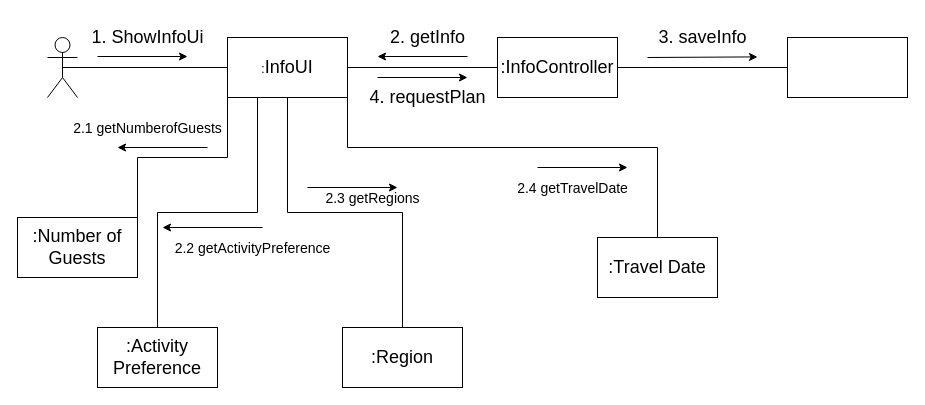
Some shapes in this 925 by 405 pixel diagram are drawn without their labels. Each missing label, with the centre of its shape:
:Info: point 847,67
User: point 62,67
